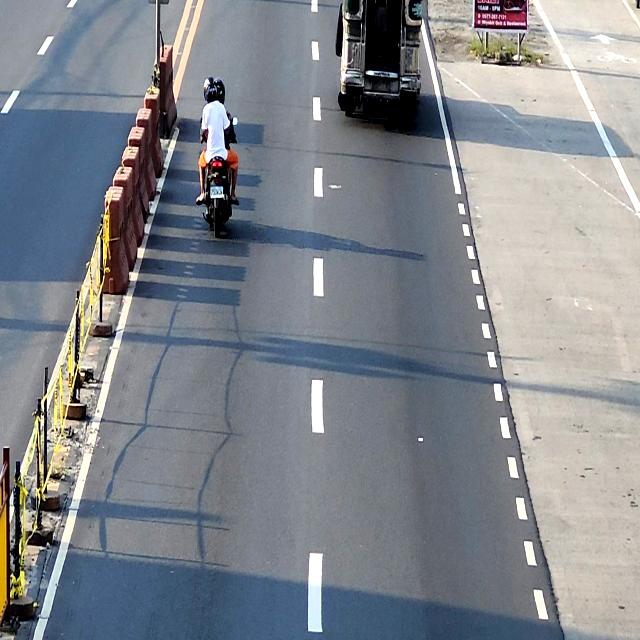Jeep: (337, 0, 423, 116)
License-Plate: (209, 187, 224, 199)
Motorcycle: (200, 116, 238, 239)
